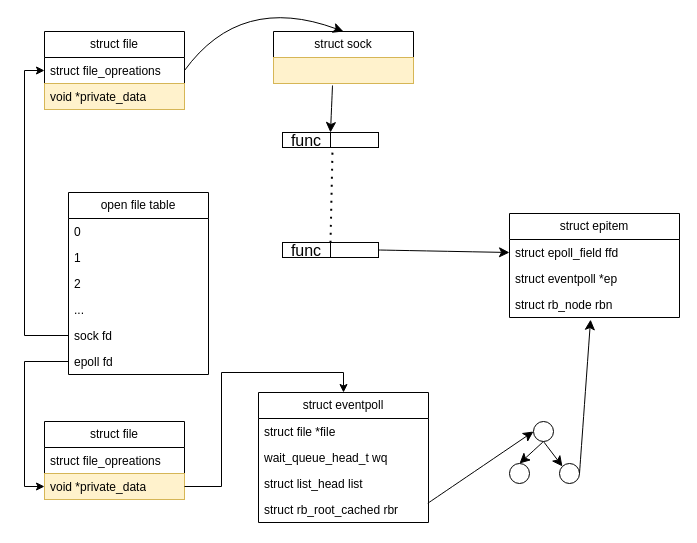
The diagram is 697 pixels wide and 543 high, and some of its shapes have lost their labels. Each missing label, with the centre of its shape:
"node" goes at (x=569, y=473).
"sk_wq" goes at (x=343, y=70).
